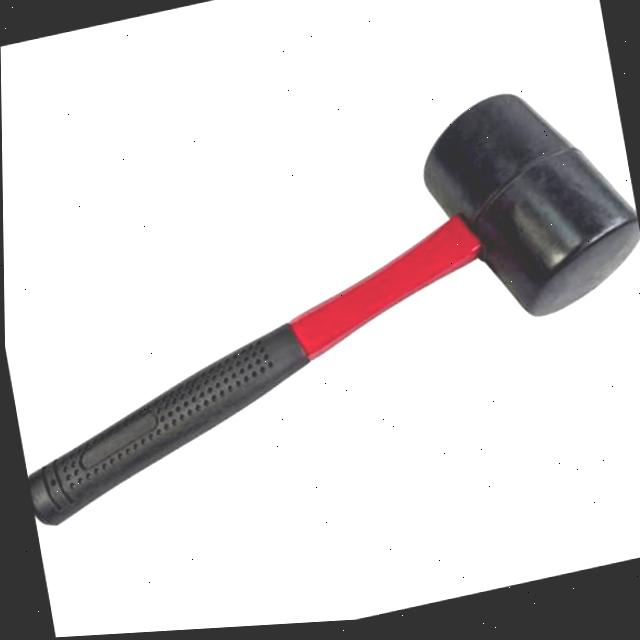hammer: (1, 64, 640, 539)
